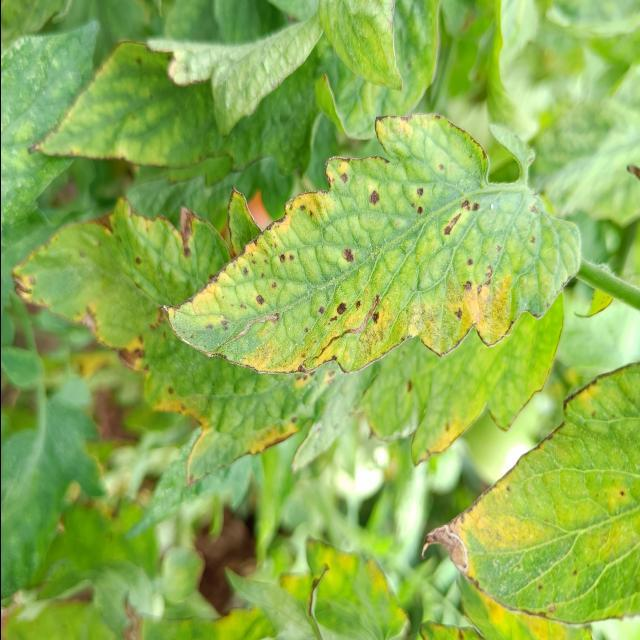Tomato mosaic virus leaf: (157, 110, 557, 384), (415, 358, 640, 626)
